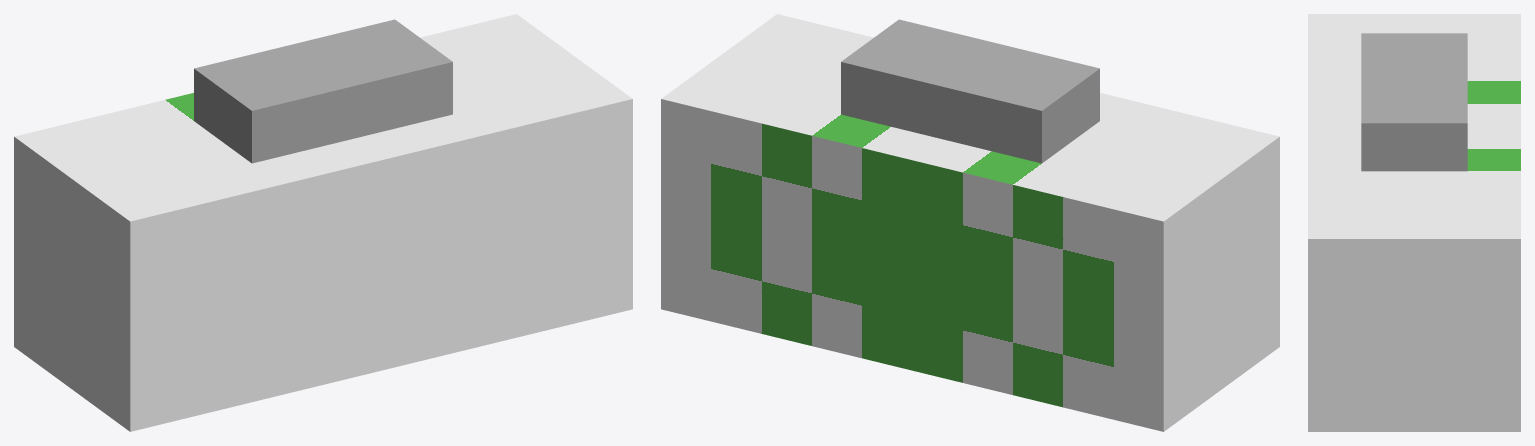
File: FirstAidKit.fbx
3 renders of one model, left to right at view 1: azimuth 30°, elevation 25°; view 2: azimuth 150°, elevation 25°; view 3: azimuth 270°, elevation 25°, orthographic. The views are drawn at different scales.
Visible parts, largest first — view 1: cube, cube_1; view 2: cube, cube_1; view 3: cube, cube_1.
Part boxes in pixels (box(x1,y1,x2,y2)): cube: box(14, 14, 632, 431); cube_1: box(194, 19, 452, 163); cube: box(661, 14, 1279, 431); cube_1: box(841, 19, 1099, 163); cube: box(1308, 14, 1520, 431); cube_1: box(1361, 33, 1467, 171).
Bounding box in the file's own units: 62.5 × 31.25 × 25.
Materials: 1 (1 with a texture image).
